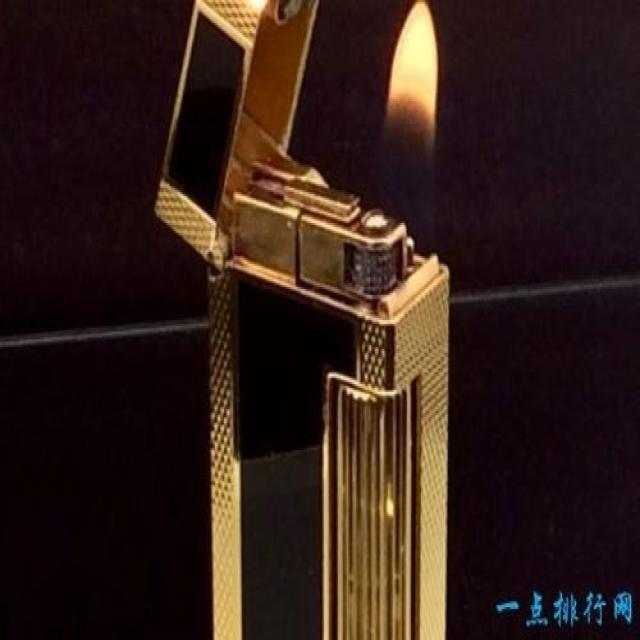Fire: (384, 2, 438, 124)
